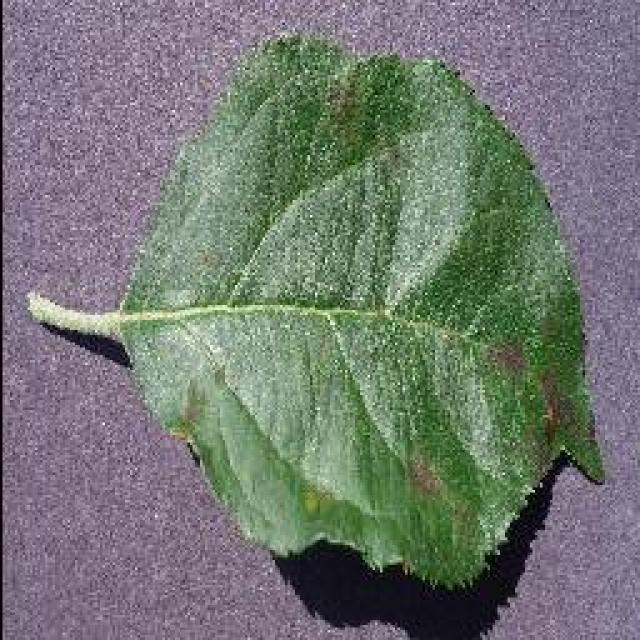apple scab disease: (25, 30, 605, 590)
